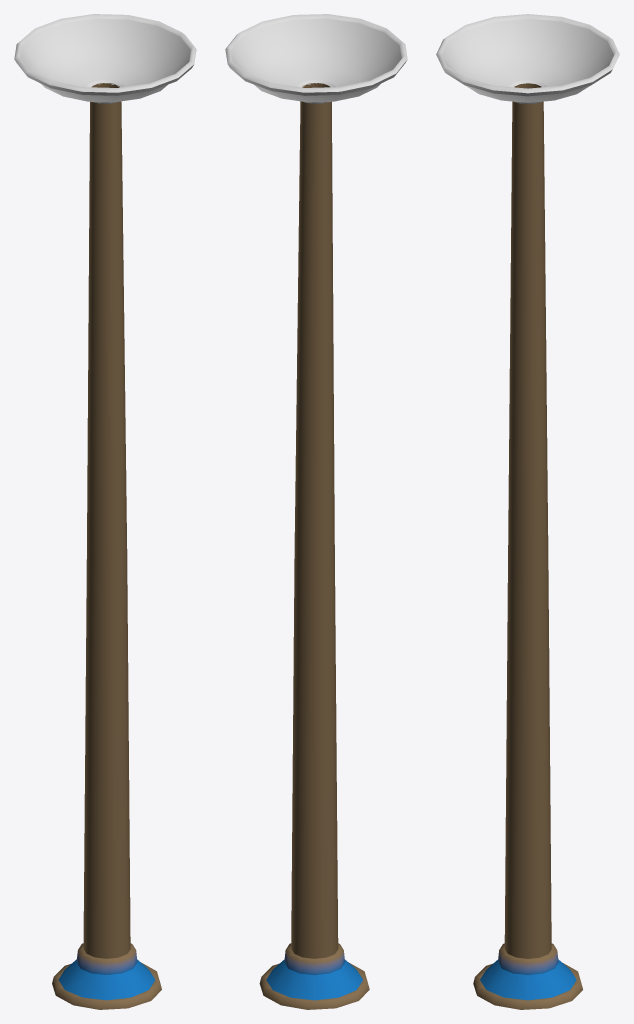
File: Antenna_C.FBX
The picture shows the model from 3 angles, left to right: view 1: azimuth 30°, elevation 25°; view 2: azimuth 150°, elevation 25°; view 3: azimuth 270°, elevation 25°; orthographic projection.
Visible parts, largest first — view 1: antenna_C; view 2: antenna_C; view 3: antenna_C.
Part boxes in pixels (x1=…): antenna_C: x1=14, y1=14, x2=196, y2=1009; antenna_C: x1=225, y1=14, x2=407, y2=1009; antenna_C: x1=436, y1=14, x2=619, y2=1009.
Size of the model in its own units: 2.15 by 12.06 by 2.15.
